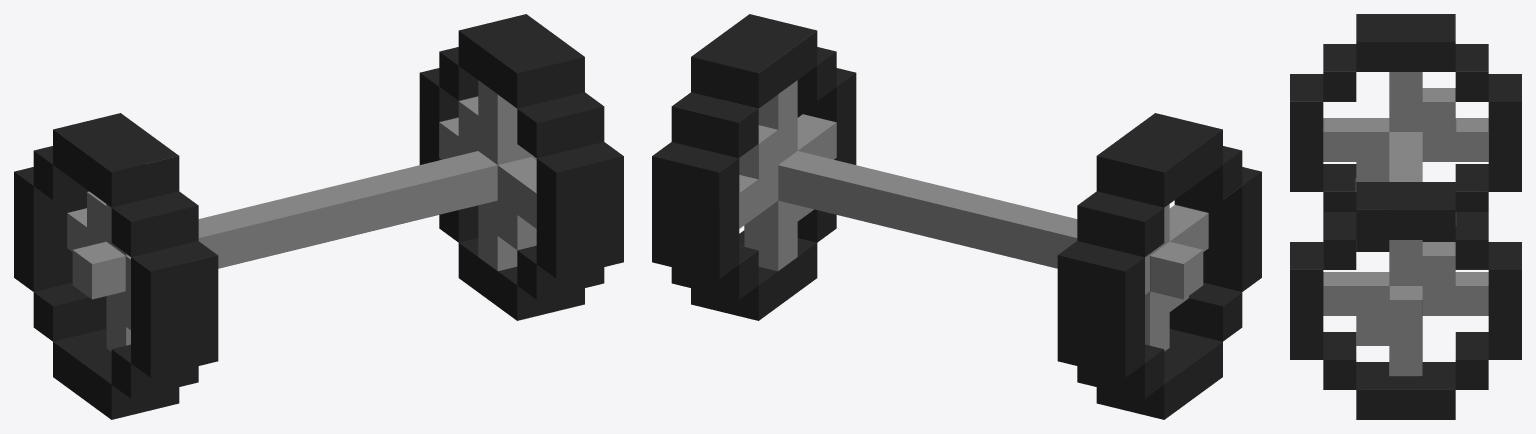
The model's file is Tractor_3_Rim_2.obj.
The picture shows the model from 3 angles, left to right: view 1: azimuth 30°, elevation 25°; view 2: azimuth 150°, elevation 25°; view 3: azimuth 270°, elevation 25°; orthographic projection. The views are drawn at different scales.
Parts seen in each view (by area): view 1: Tractor_3_Rim_2_Tractor_3_Rim_2.001; view 2: Tractor_3_Rim_2_Tractor_3_Rim_2.001; view 3: Tractor_3_Rim_2_Tractor_3_Rim_2.001.
Part boxes in pixels (x1,y1,x2,y2): Tractor_3_Rim_2_Tractor_3_Rim_2.001: [14, 14, 623, 419]; Tractor_3_Rim_2_Tractor_3_Rim_2.001: [652, 14, 1261, 419]; Tractor_3_Rim_2_Tractor_3_Rim_2.001: [1290, 14, 1521, 419].
Bounding box in the file's own units: 2.8 × 1.4 × 1.4.
